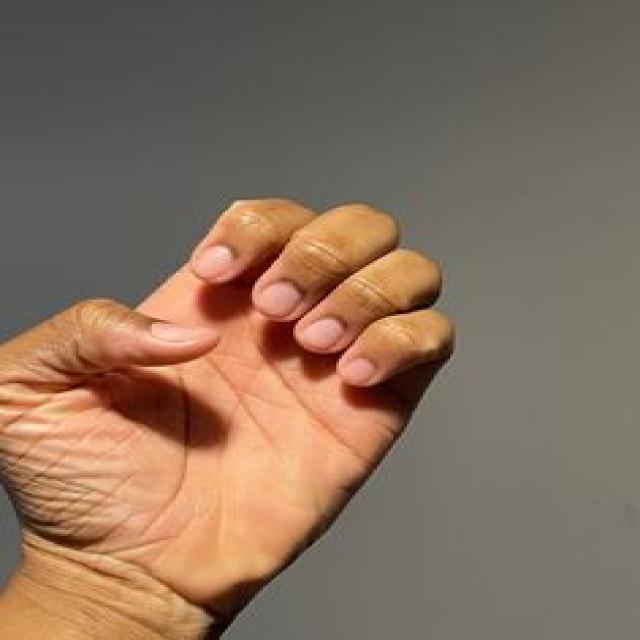Fingernail: (256, 280, 301, 316), (302, 316, 345, 349), (196, 245, 235, 278), (153, 323, 214, 342), (345, 357, 376, 382)
